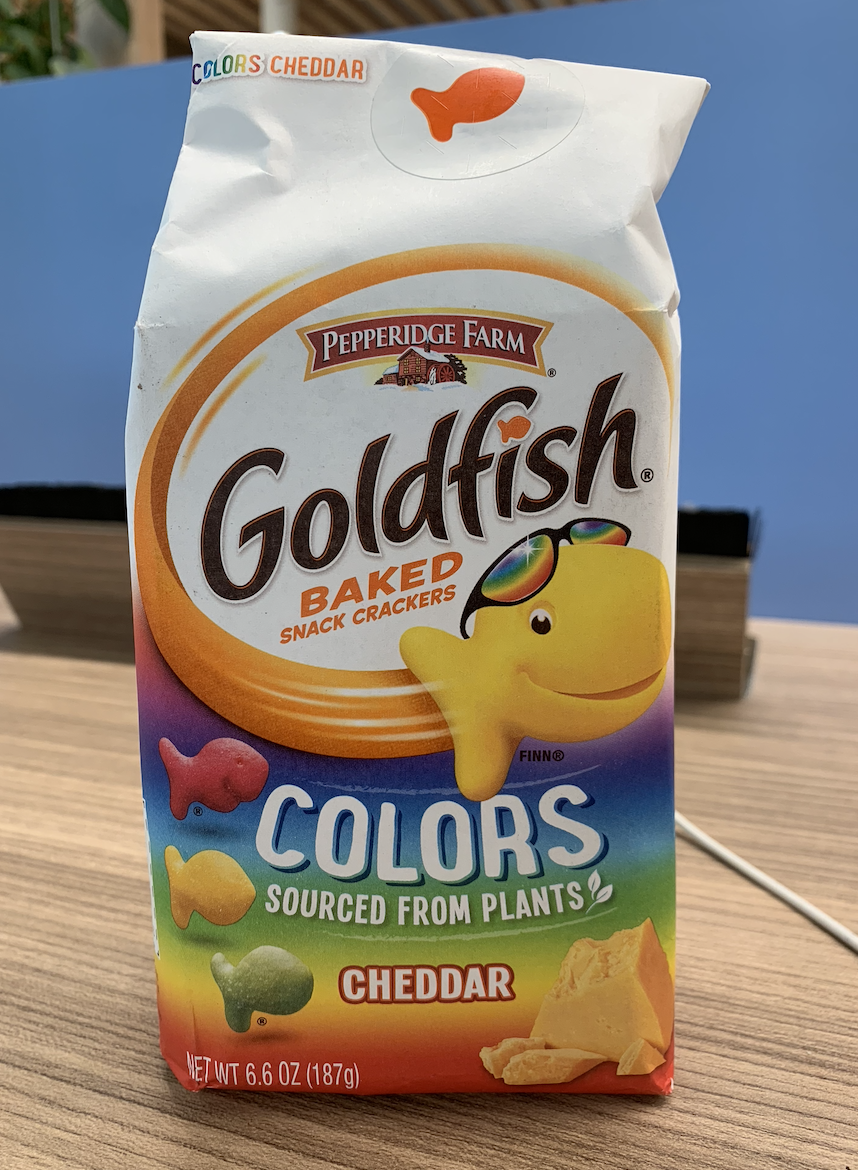crackers_150g: (166, 244, 664, 1099)
